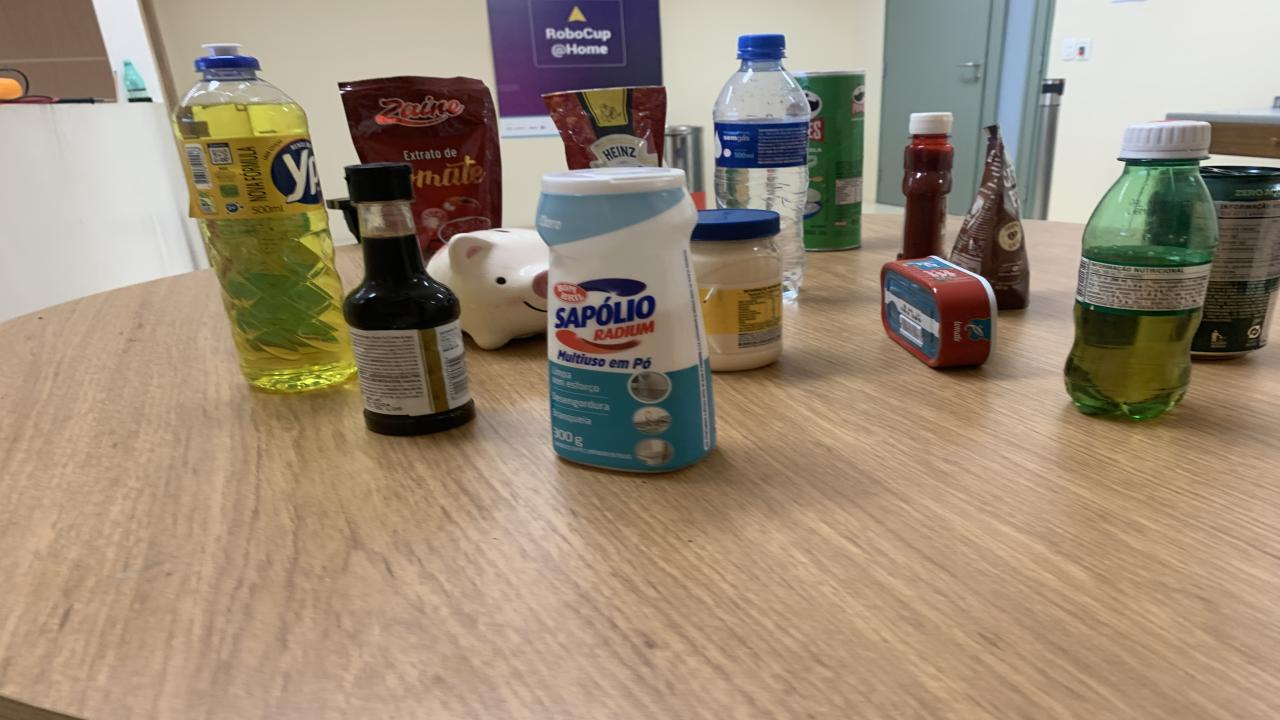Cleaner-Cleanup_Items: (535, 167, 715, 472)
Coffee-Pantry_Items: (950, 126, 1030, 309)
Detergent-Cleanup_Items: (172, 45, 355, 392)
English_Sauce-Pantry_Items: (342, 163, 475, 435)
Guarana-Drinks: (1065, 120, 1218, 418)
Guarana_Can-Drinks: (1192, 167, 1280, 352)
Ketchup-Pantry_Items: (898, 112, 952, 259)
Mayonnaise-Pantry_Items: (690, 208, 782, 371)
Pig_Safe-Miscellaneous: (428, 229, 548, 349)
Pringles-Snacks: (792, 69, 865, 251)
Tomato_Sauce-Pantry_Items: (338, 77, 502, 257), (542, 86, 665, 169)
Tuna_Can-Pantry_Items: (882, 255, 998, 368)
Water_Bottle-Drinks: (712, 34, 810, 298)
